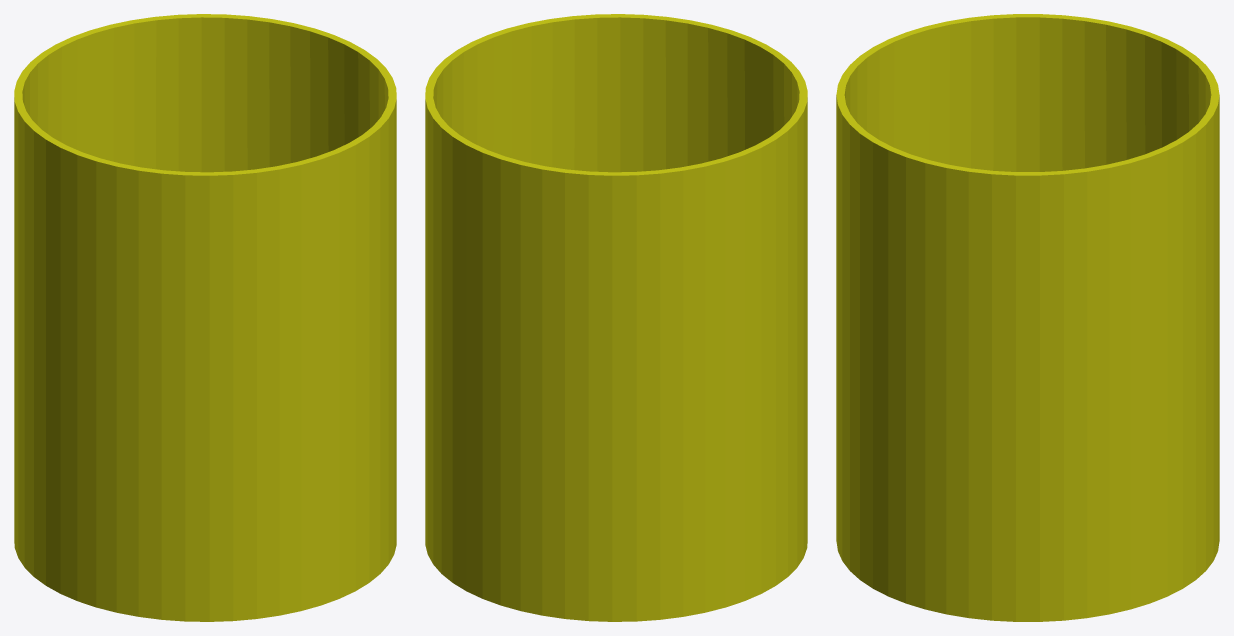
The model's file is yellow_bin.dae.
The picture shows the model from 3 angles, left to right: view 1: azimuth 30°, elevation 25°; view 2: azimuth 150°, elevation 25°; view 3: azimuth 270°, elevation 25°; orthographic projection.
Visible parts, largest first — view 1: Cylinder; view 2: Cylinder; view 3: Cylinder.
Part boxes in pixels (<box>): Cylinder: <box>14,14,396,621</box>; Cylinder: <box>425,14,807,621</box>; Cylinder: <box>836,14,1219,621</box>.
Bounding box in the file's own units: 0.1397 × 0.14 × 0.18.
